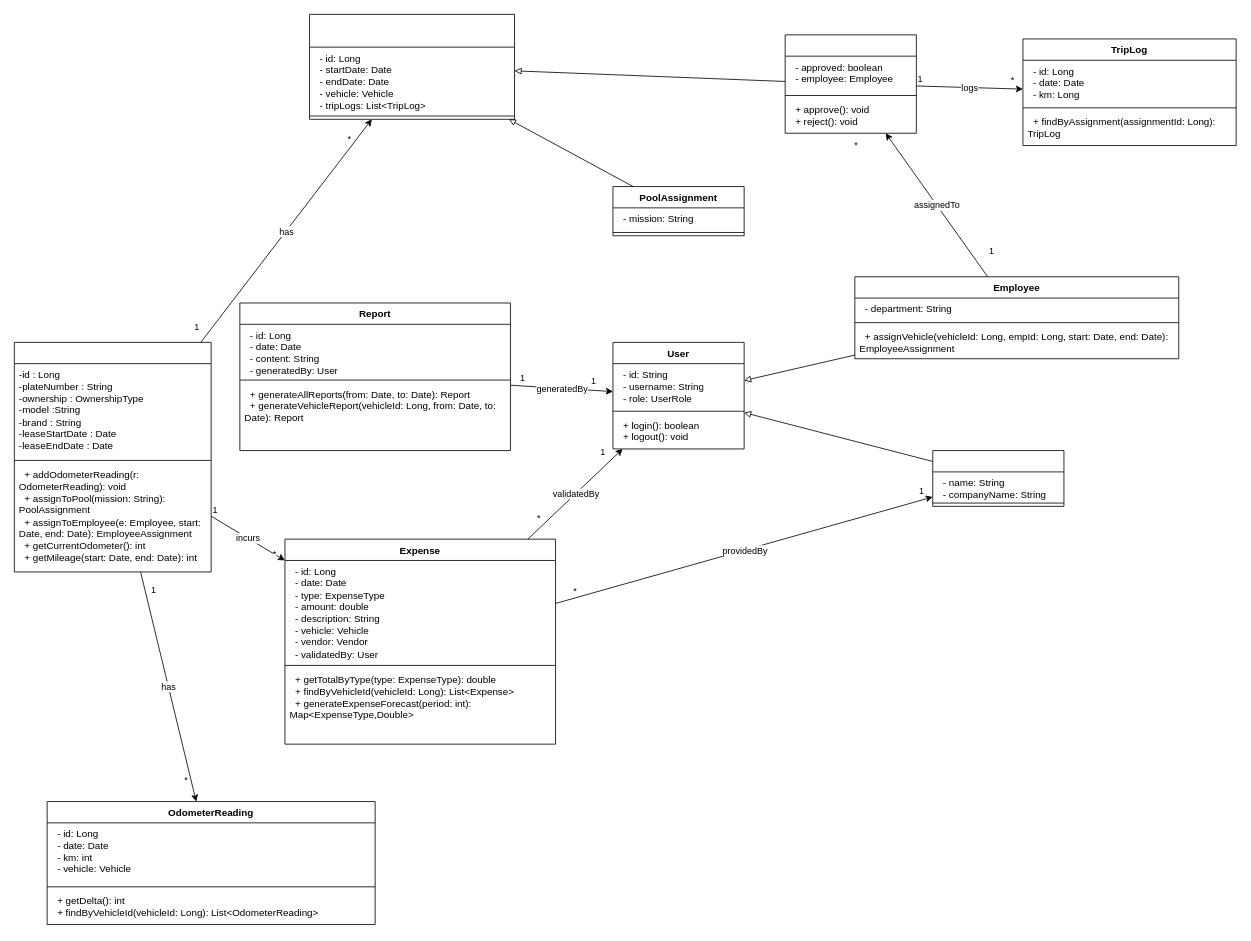
The diagram is 1251 pixels wide and 941 high, and some of its shapes have lost their labels. The shapes that lost their labels are listed below. From the top down, each one's box as (x1, y1, x2, y2) in pixels, then its label:
(309, 14, 515, 119): <<Abstract>> Assignment
(784, 34, 916, 133): EmployeeAssignment
(14, 342, 211, 572): Vehicle
(932, 450, 1064, 506): Vendor
